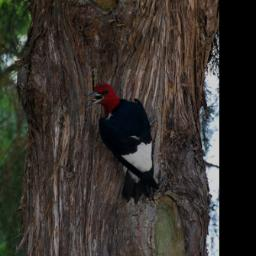Woodpecker: (84, 78, 165, 204)
